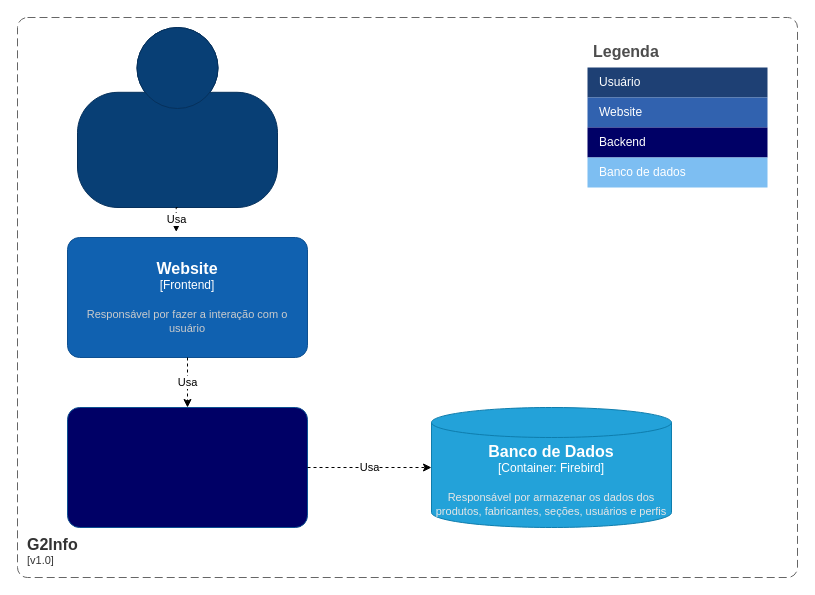
Some shapes in this 815 by 595 pixel diagram are drawn without their labels. Here are the shapes that lost their labels. From the top down, the centre of each, then its label:
At [177,117]: "Usuário [Person] Responsável para operar o Website".
At [187,467]: "Backend [API] Resposável por receber as requisições REST".
